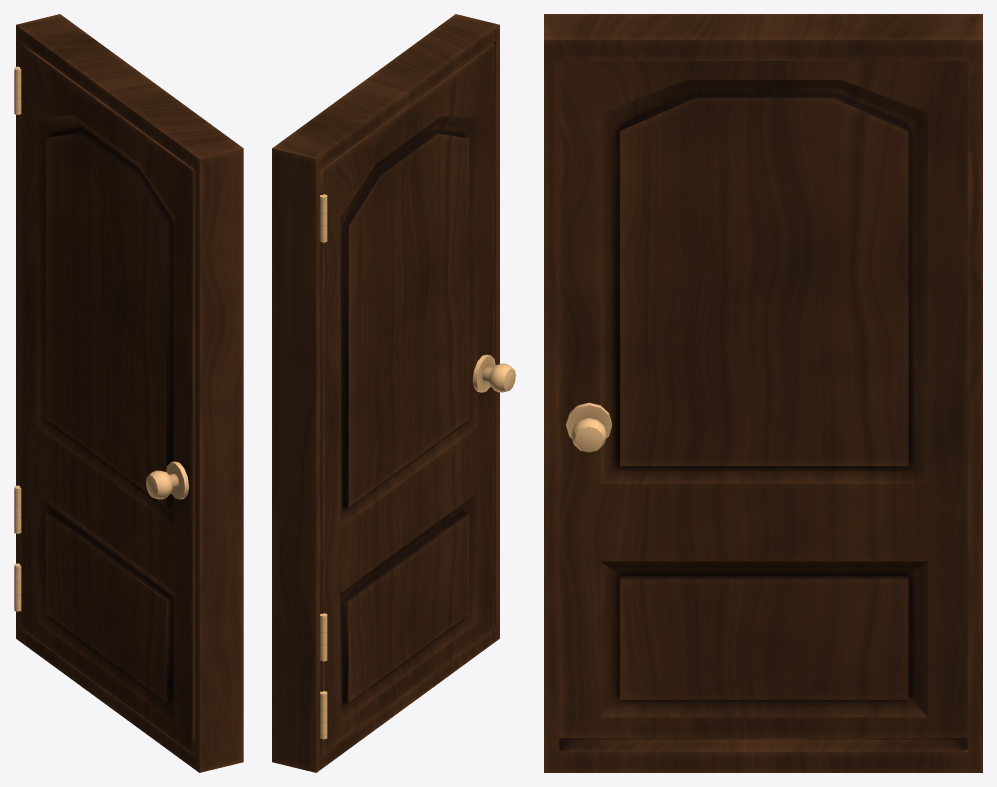
The model's file is Door_Border_In_C.fbx.
3 views of the same model, side by side, from view 1: azimuth 30°, elevation 25°; view 2: azimuth 150°, elevation 25°; view 3: azimuth 270°, elevation 25° (orthographic). The views are drawn at different scales.
Visible parts, largest first — view 1: U_Door_C, U_Door_Border_In_C, U_Handle_C, U_Hinge; view 2: U_Door_C, U_Door_Border_In_C, U_Handle_C, U_Hinge; view 3: U_Door_C, U_Door_Border_In_C, U_Handle_C.
Boxes of the visible parts, <box> form: U_Door_C: <box>20,43,195,753</box>; U_Door_Border_In_C: <box>16,14,243,772</box>; U_Handle_C: <box>146,461,188,499</box>; U_Hinge: <box>14,66,21,611</box>; U_Door_C: <box>320,44,495,753</box>; U_Door_Border_In_C: <box>272,14,499,772</box>; U_Handle_C: <box>472,354,515,392</box>; U_Hinge: <box>320,194,327,739</box>; U_Door_C: <box>559,61,967,737</box>; U_Door_Border_In_C: <box>544,14,982,772</box>; U_Handle_C: <box>566,402,611,452</box>.
Size of the model in its own units: 32.6 by 250 by 136.
1 material, 1 textured.
